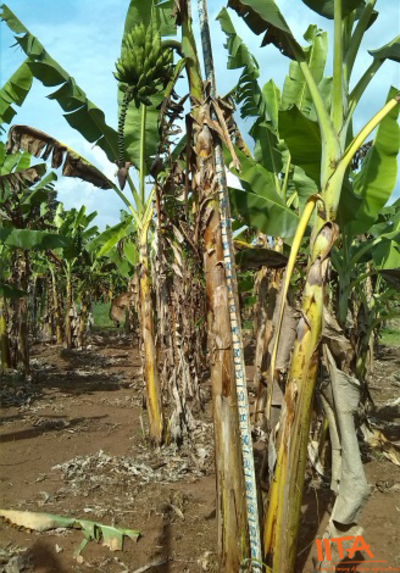bananaHand: (111, 25, 178, 110)
